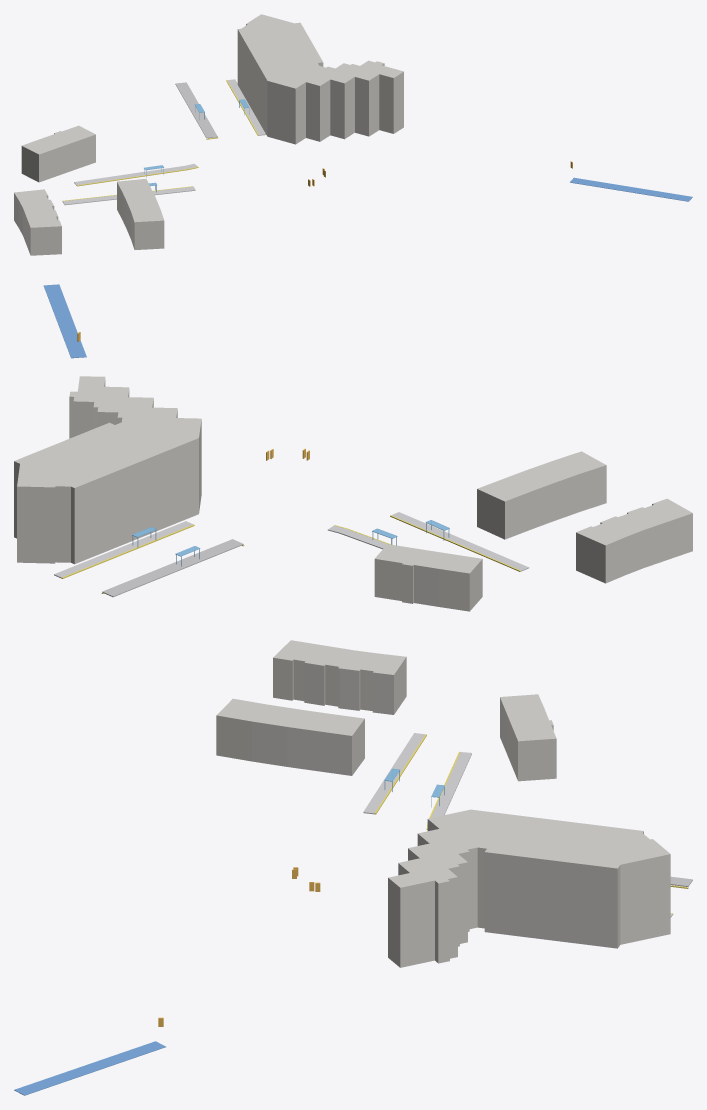
The model's file is 8579898-bern-buempliz-unterfuehrung.glb.
3 views of the same model, one above another, from view 1: azimuth 30°, elevation 25°; view 2: azimuth 150°, elevation 25°; view 3: azimuth 270°, elevation 25° (orthographic). The views are drawn at different scales.
Parts seen in each view (by area): view 1: building_part@x, platform_body@0, passage@-1, platform_surface@0, boarding_edge@0; view 2: building_part@x, platform_body@0, platform_surface@0, passage@-1, boarding_edge@0, shelter@0; view 3: building_part@x, platform_body@0, passage@-1.
Boxes of the visible parts, bbox=[...] form: building_part@x: bbox=[14, 14, 403, 255]; platform_body@0: bbox=[62, 79, 266, 205]; passage@-1: bbox=[570, 177, 692, 201]; platform_surface@0: bbox=[175, 82, 217, 138]; boarding_edge@0: bbox=[62, 80, 258, 201]; building_part@x: bbox=[14, 376, 692, 611]; platform_body@0: bbox=[54, 512, 529, 578]; platform_surface@0: bbox=[102, 539, 243, 597]; passage@-1: bbox=[43, 284, 86, 358]; boarding_edge@0: bbox=[61, 515, 520, 593]; shelter@0: bbox=[132, 520, 449, 566]; building_part@x: bbox=[216, 640, 670, 967]; platform_body@0: bbox=[363, 733, 672, 917]; passage@-1: bbox=[14, 1041, 165, 1095].
Size of the model in its own units: 224 by 25.62 by 161.
